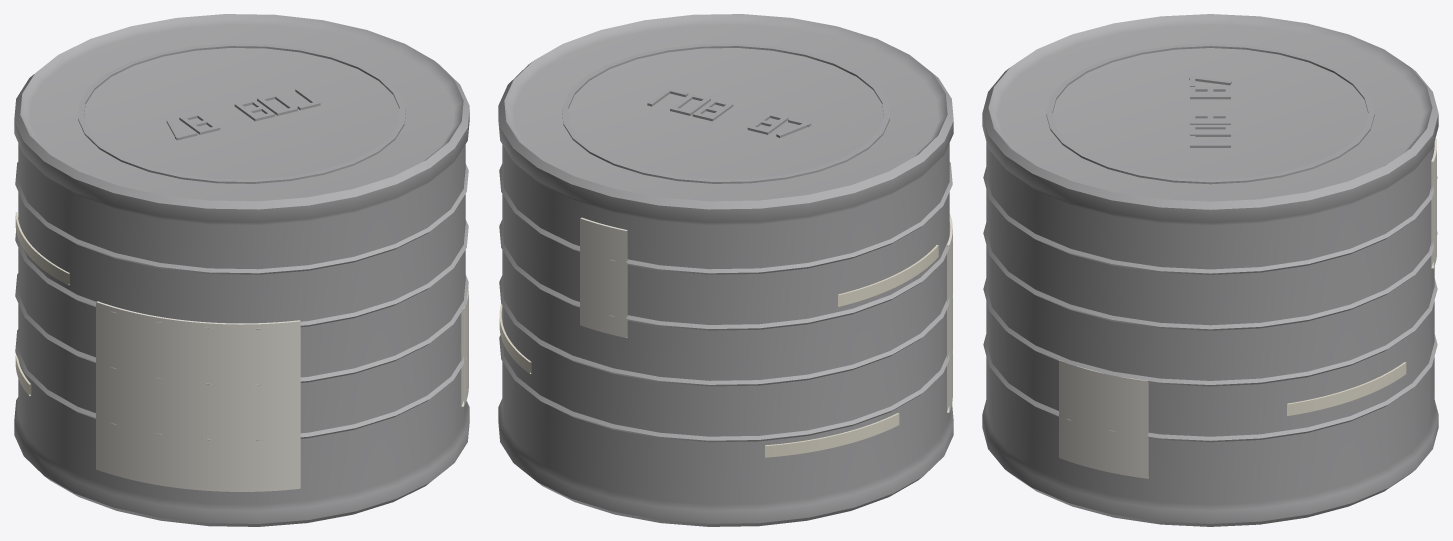
Rendered from canned_stew.glb.
The picture shows the model from 3 angles, left to right: view 1: azimuth 30°, elevation 25°; view 2: azimuth 150°, elevation 25°; view 3: azimuth 270°, elevation 25°; orthographic projection.
Visible parts, largest first — view 1: body; view 2: body; view 3: body.
Part boxes in pixels (x1,y1,x2,y2): body: (14,14,469,526); body: (498,14,953,526); body: (982,14,1438,526).
Bounding box in the file's own units: 0.089 × 0.07 × 0.089.
